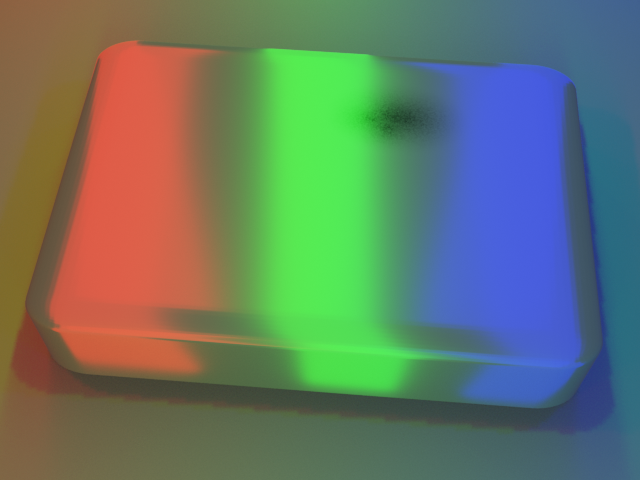stain: (297, 53, 493, 159)
